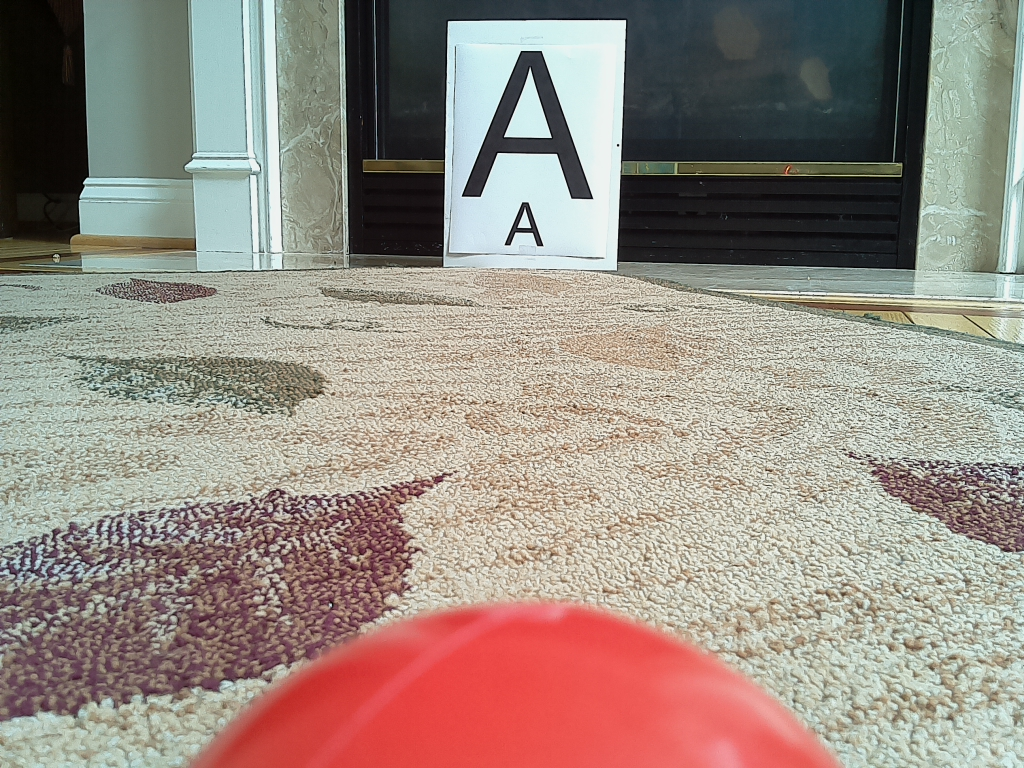letter: (462, 52, 596, 198)
